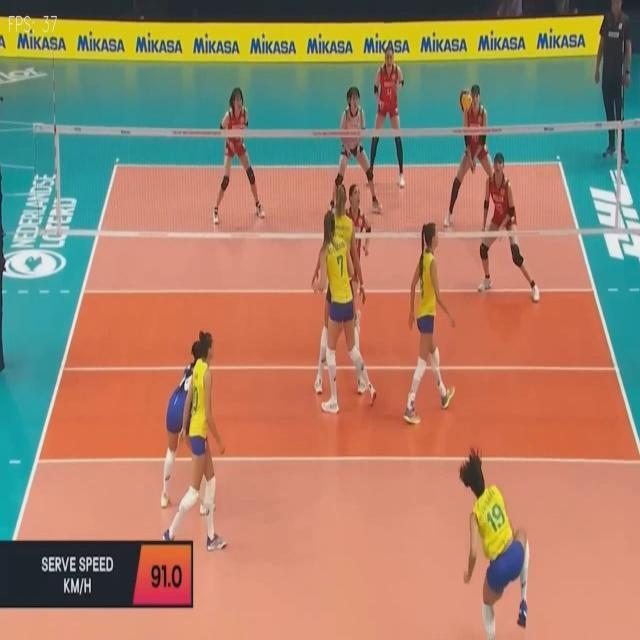volleyball: (458, 90, 472, 112)
